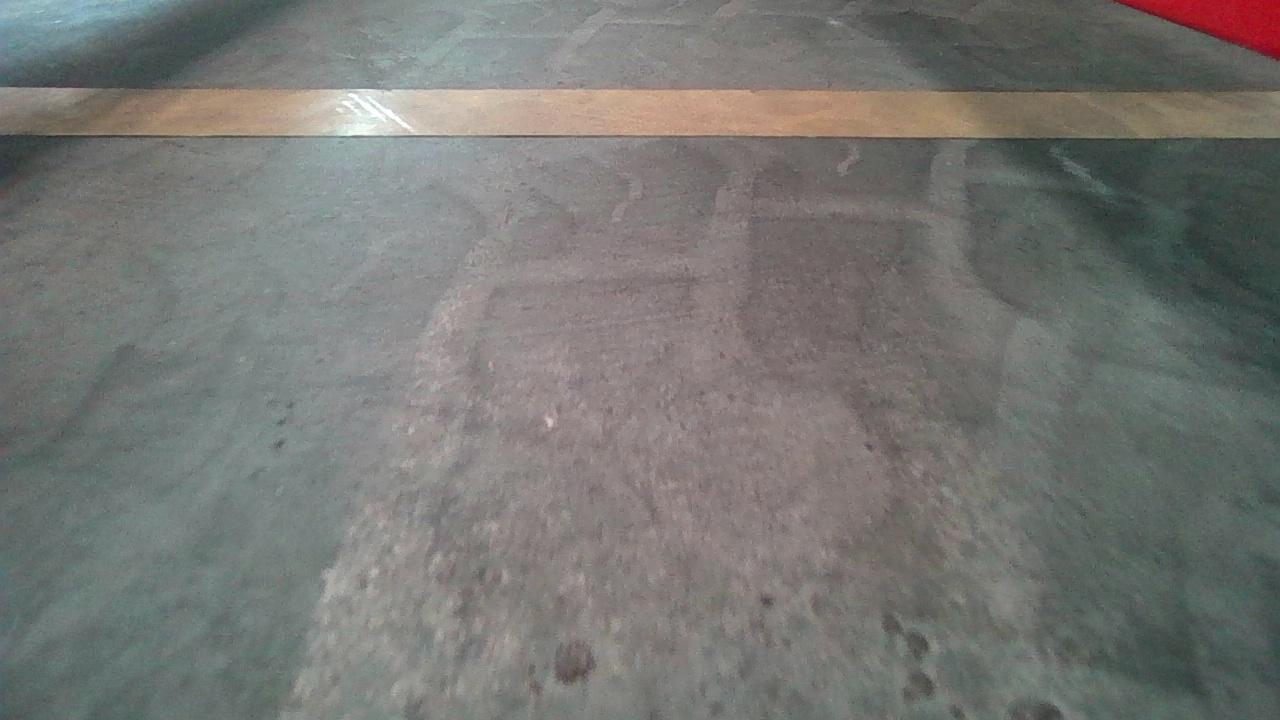yellow_line: (7, 77, 1280, 142)
